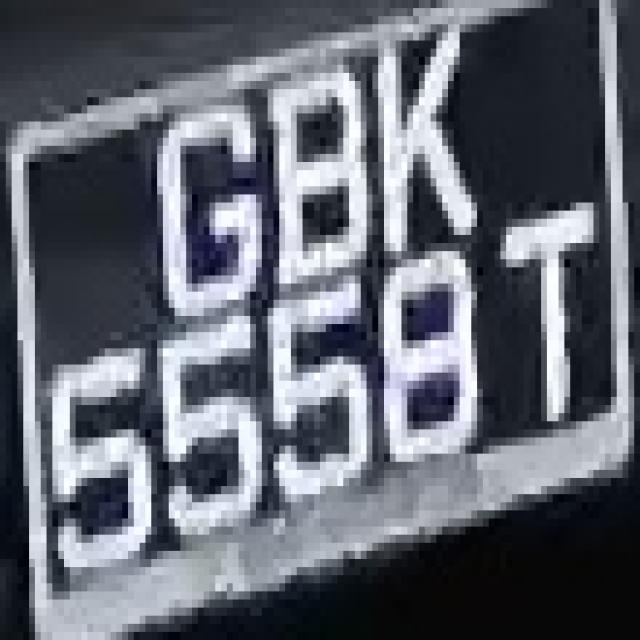5: (262, 251, 384, 527), (152, 316, 274, 543), (41, 340, 151, 567)
8: (372, 211, 494, 478)
B: (256, 40, 384, 284)
G: (116, 65, 262, 324)
K: (355, 8, 477, 243)
T: (477, 202, 605, 430)
